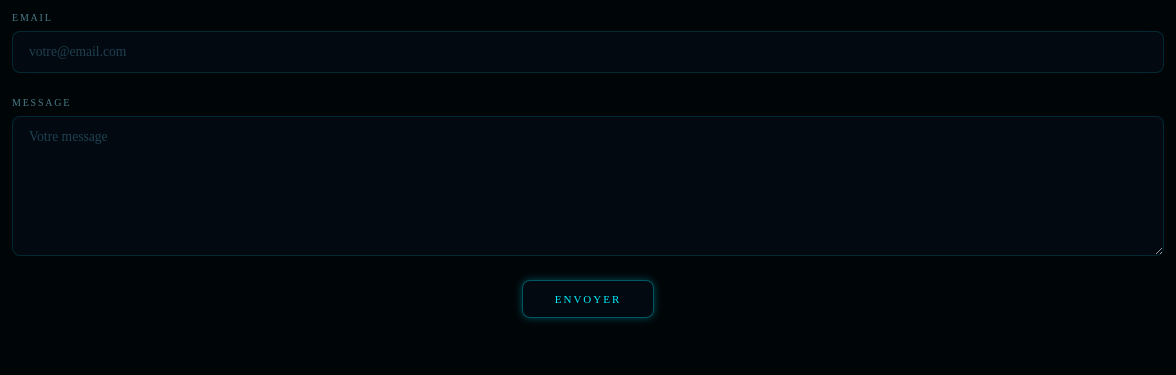
ContactForm › displays captchaFailed error message
The width and height of the screenshot is (1176, 375).
Type "test@example.com" into the field labelled "Email". click: (588, 52)
box: [12,31,1164,73]
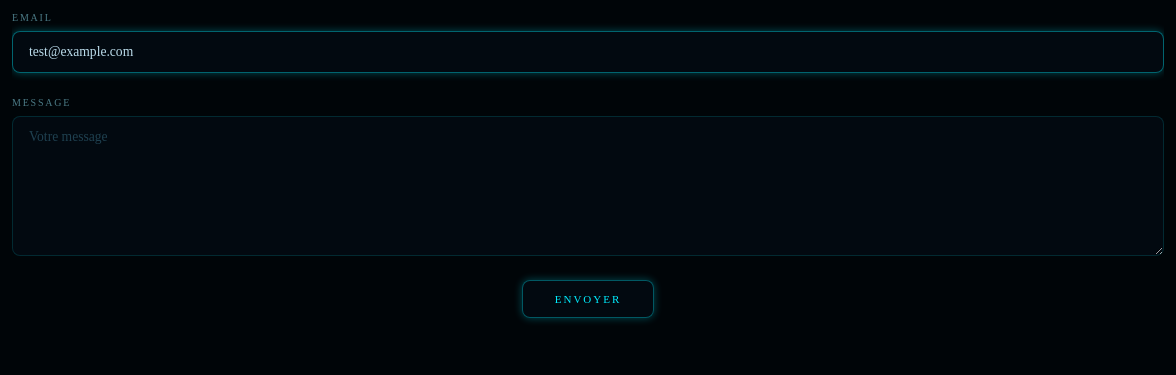
Type "Un message valide de test." into the text box labelled "Message". click: (588, 186)
box: [12,116,1164,256]
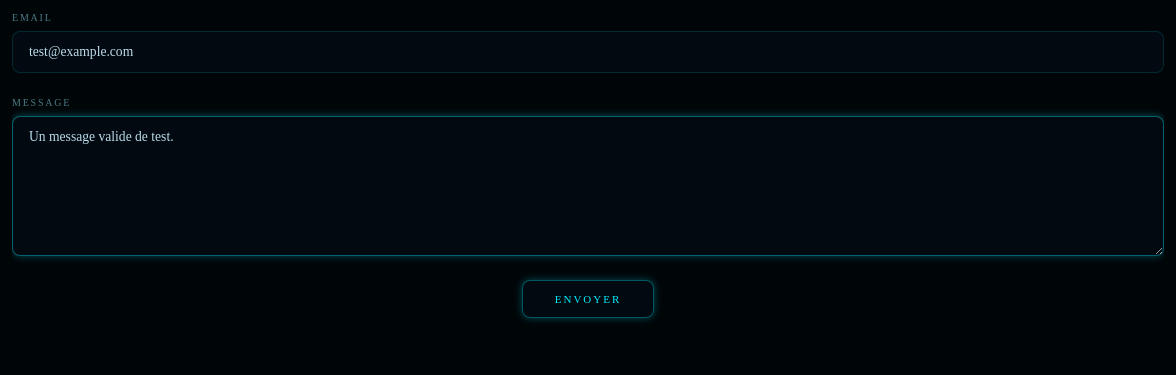
Click the button "Envoyer". click: (588, 299)
box: [522,280,654,318]
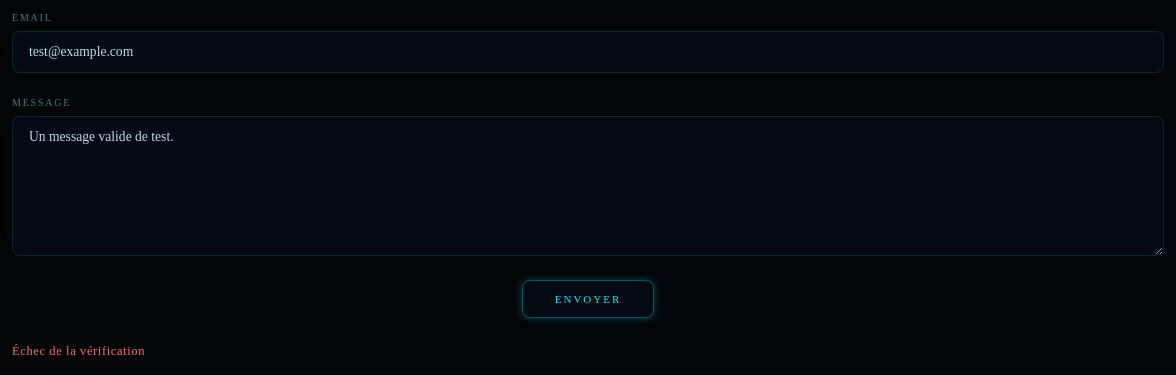
Expected: the text "Échec de la vérification" is shown, [12,344,145,358]
